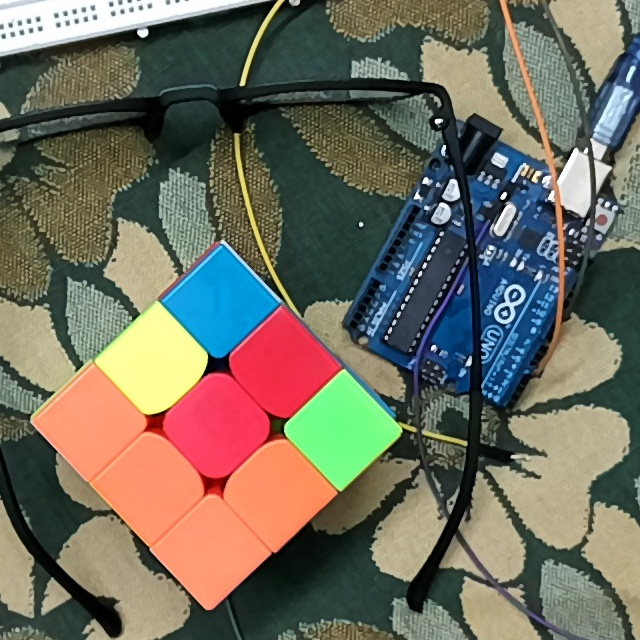tile: (252, 338, 313, 397), (250, 461, 308, 520), (126, 334, 186, 391), (182, 523, 240, 581), (193, 274, 252, 331), (313, 404, 370, 462), (63, 394, 120, 450), (189, 400, 245, 457), (123, 459, 181, 513)
